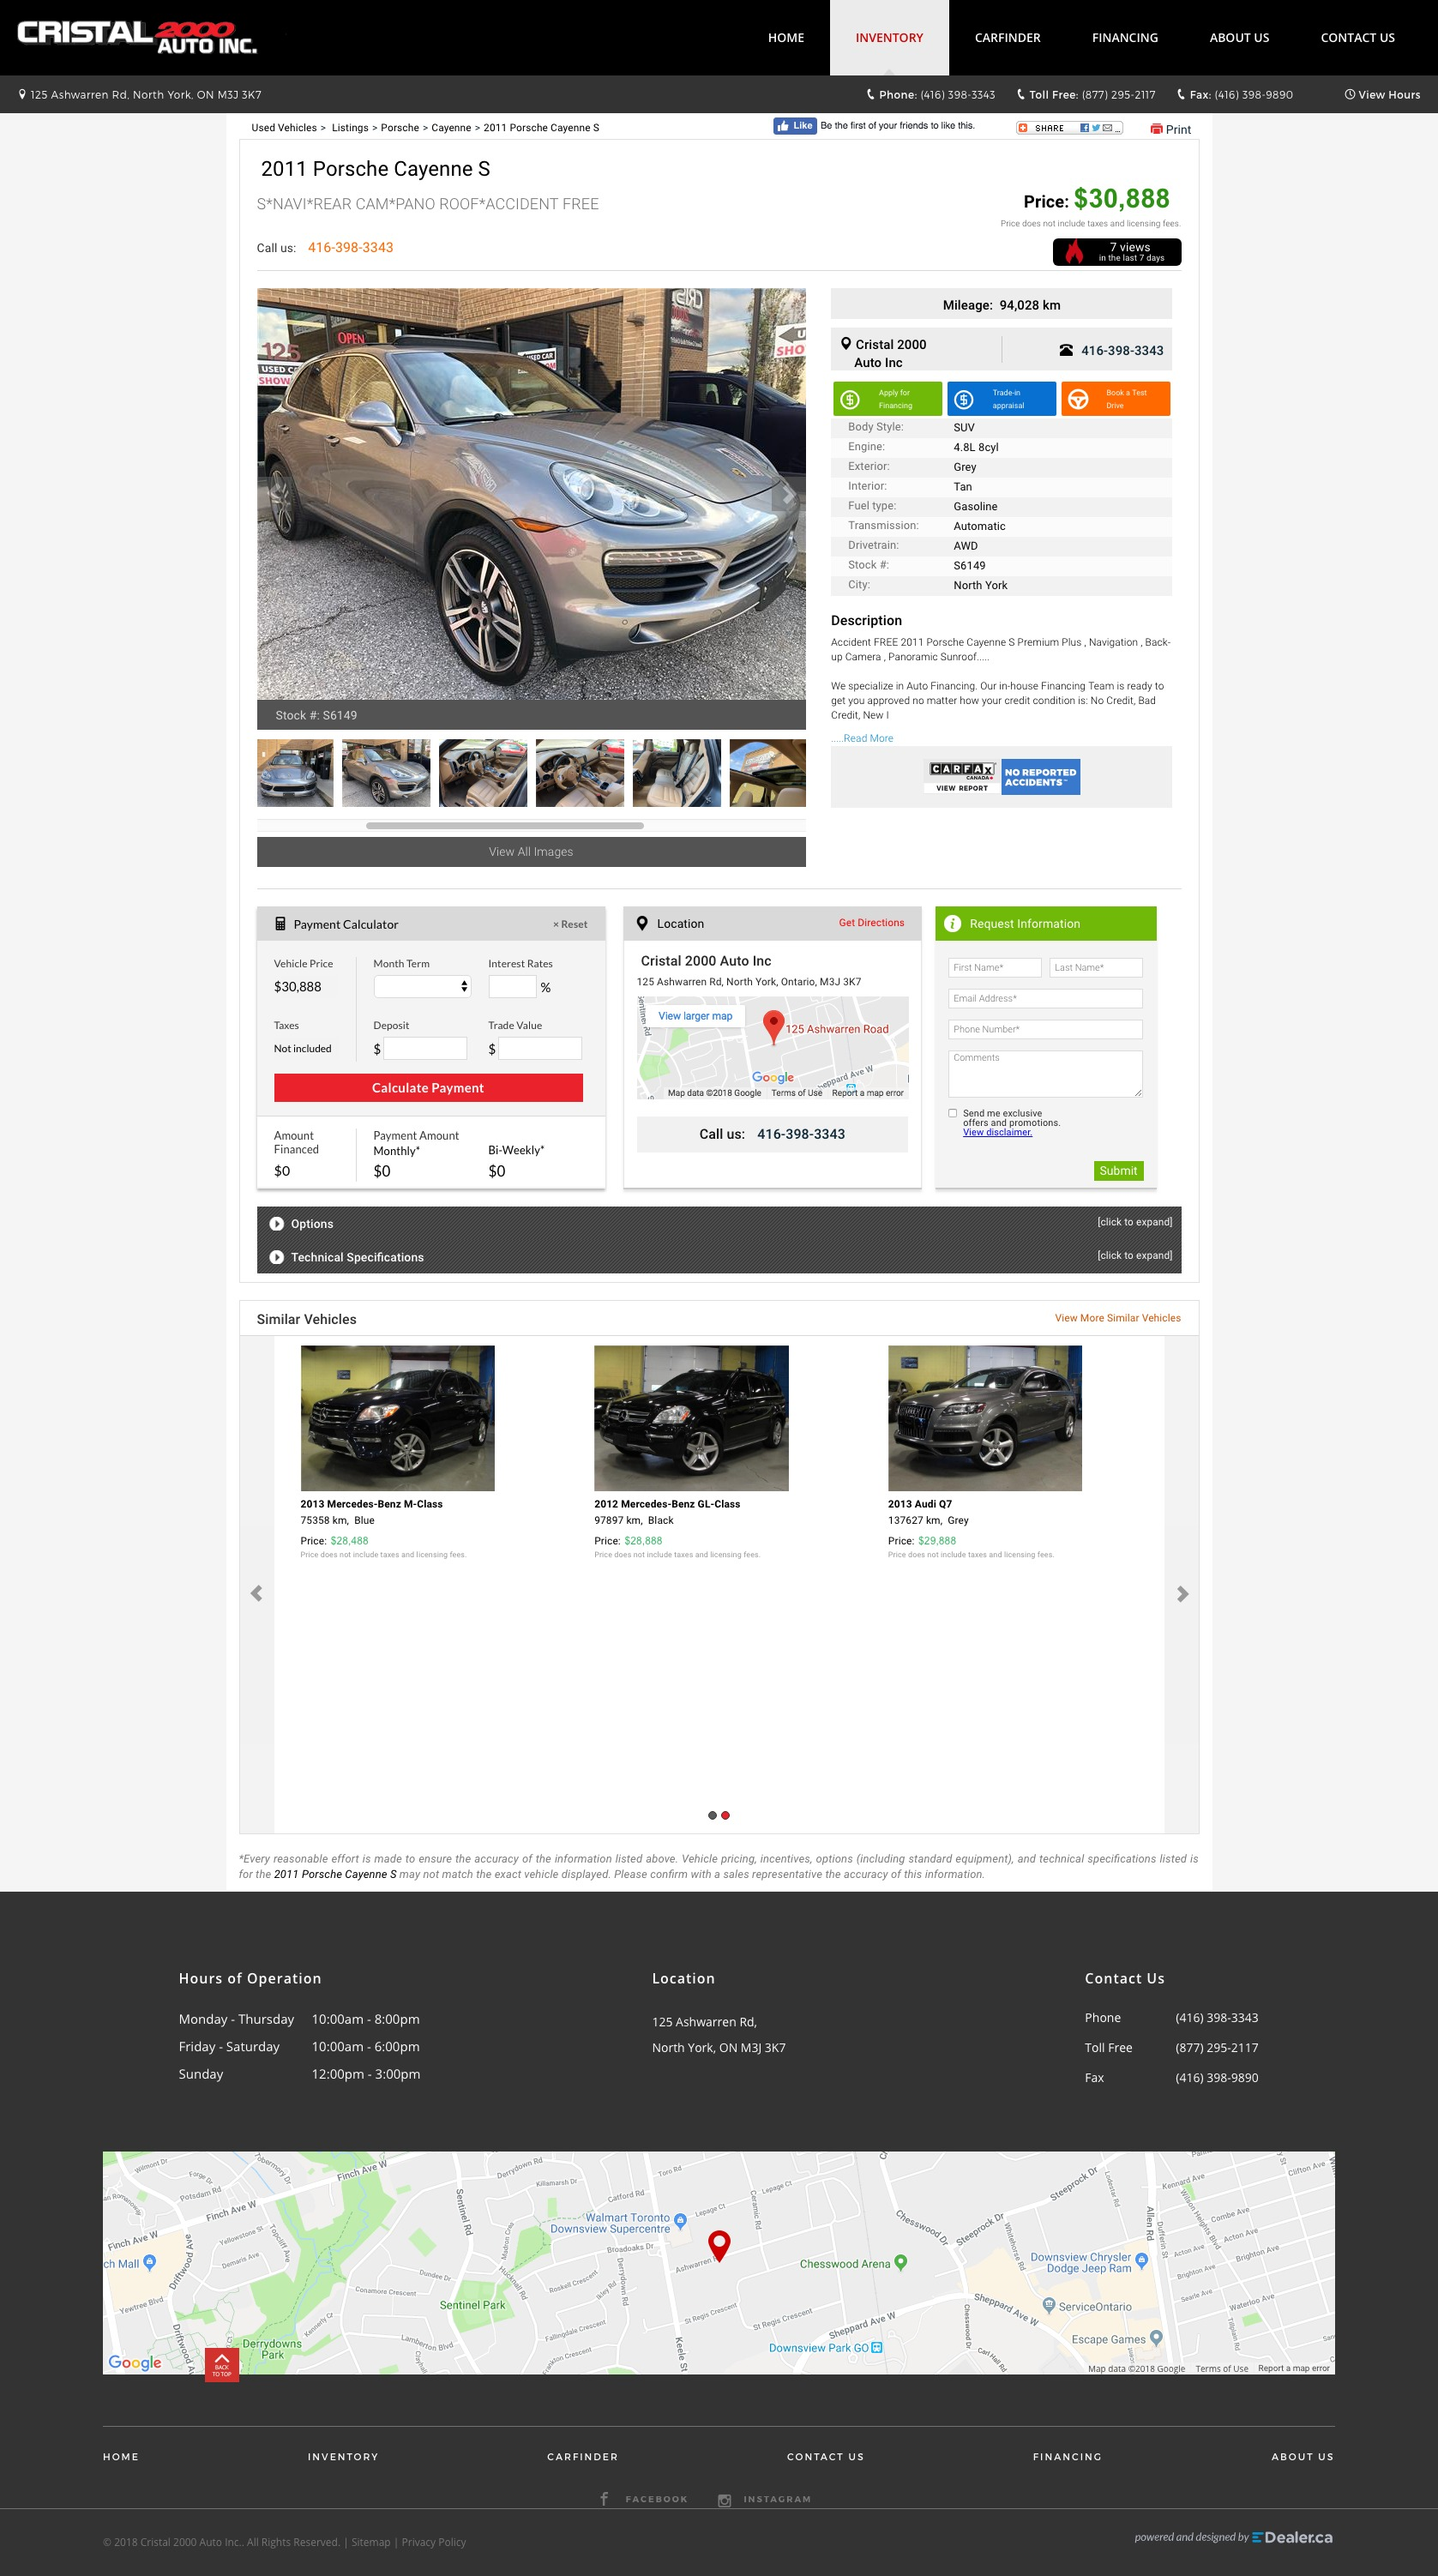car: (771, 474, 808, 515)
